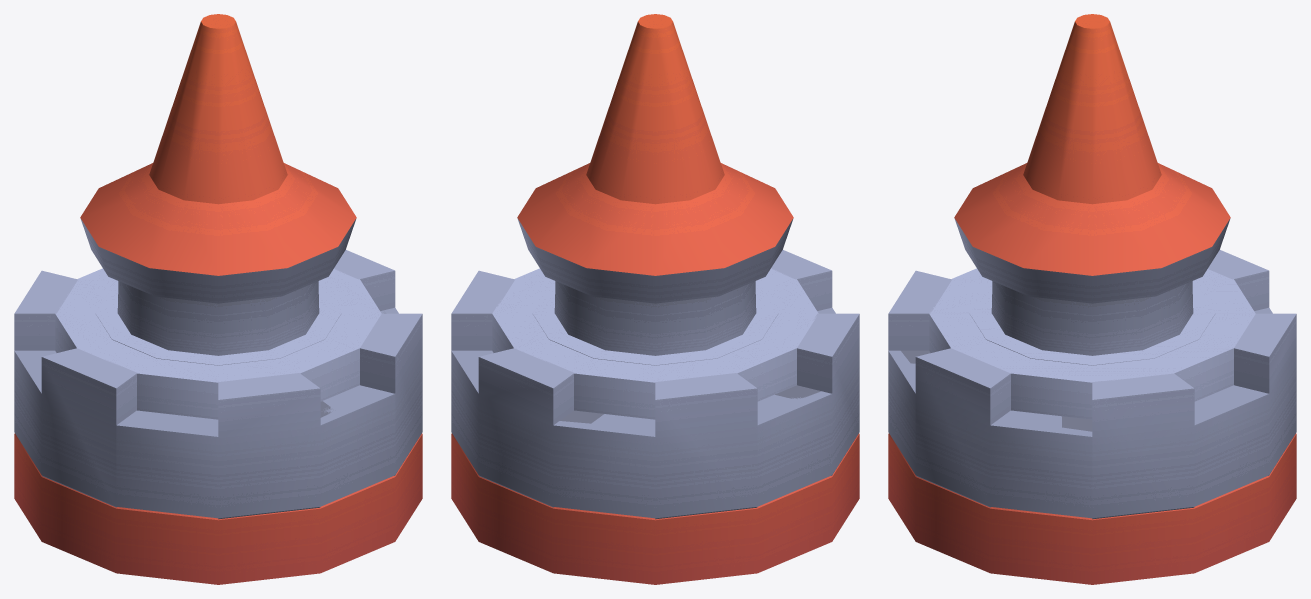
File: towers.glb
The picture shows the model from 3 angles, left to right: view 1: azimuth 30°, elevation 25°; view 2: azimuth 150°, elevation 25°; view 3: azimuth 270°, elevation 25°; orthographic projection.
Parts seen in each view (by area): view 1: tower-roof, tower-bottom; view 2: tower-roof, tower-bottom; view 3: tower-roof, tower-bottom.
Part boxes in pixels (box(x1,y1,x2,y2)): tower-roof: box(14, 14, 422, 519); tower-bottom: box(14, 268, 422, 584); tower-roof: box(451, 14, 859, 519); tower-bottom: box(451, 268, 859, 584); tower-roof: box(888, 14, 1296, 519); tower-bottom: box(888, 268, 1296, 584).
Size of the model in its own units: 1 by 1.29 by 1.
1 material, 1 textured.
